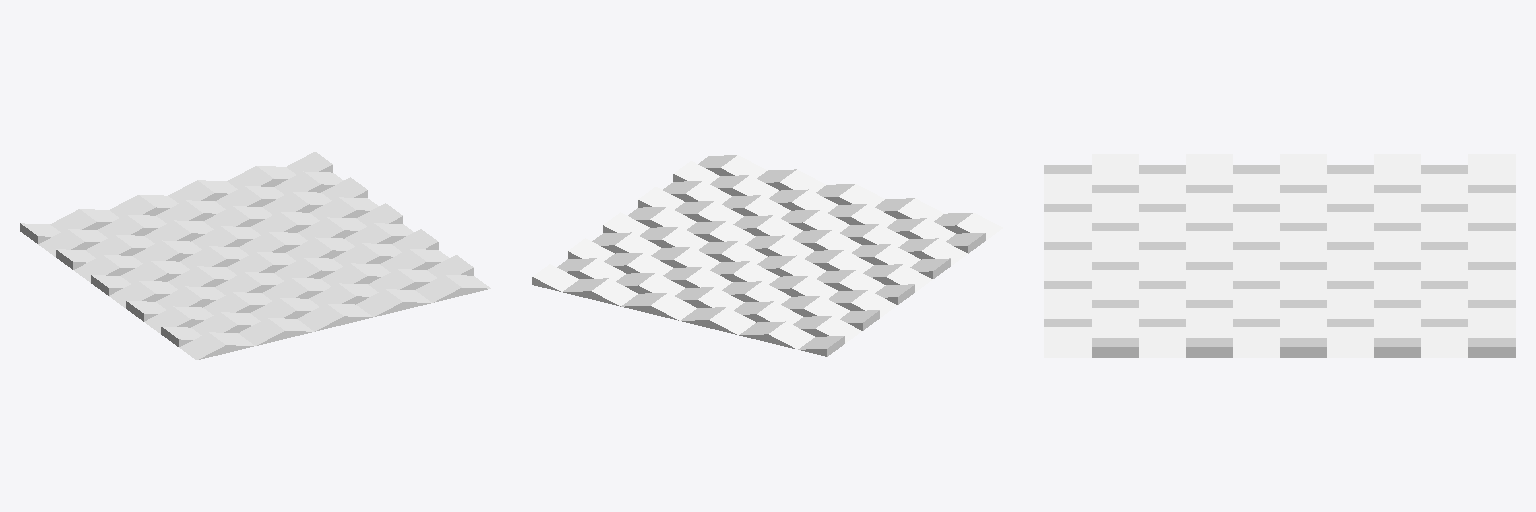
The robot description file, URDF, robot "ramp_mesh.urdf":
<?xml version="1.0" ?>
<robot name="ramp_mesh.urdf">
	<link name="ramp_mesh">
		<visual>
			<origin xyz="-3.0 -3.0 0" rpy="0 0 0" />
			<geometry>
				<mesh filename="./ramp-mesh.stl" scale="0.02 0.02 0.02" />
			</geometry>
			<material name="texture">
				<color rgba="1.0 1.0 1.0 1.0" />
			</material>
		</visual>
		<collision>
			<geometry>
				<mesh filename="./ramp-mesh.stl" scale="0.02 0.02 0.02" />
			</geometry>
		<origin xyz="-3.0 -3.0 0" rpy="0 0 0" /></collision>
		<inertial>
			<mass value="1000.0" />
			<inertia ixx="1.0" ixy="0.0" ixz="0.0" iyy="1.0" iyz="0.0" izz="1.0" />
		</inertial>
	</link>
</robot>

--- Facts derived from the render (not from the file) ---
3 views of the same robot in one strip: view 1: azimuth 30°, elevation 25°; view 2: azimuth 150°, elevation 25°; view 3: azimuth 270°, elevation 25° (orthographic).
Model ramp_mesh.urdf with 1 links and 0 joints (none), rooted at ramp_mesh, posed all joints at 0.
Links seen in each view (by area): view 1: ramp_mesh; view 2: ramp_mesh; view 3: ramp_mesh.
Link boxes in pixels (left/top/right/bottom): ramp_mesh: left=20, top=152, right=490, bottom=359; ramp_mesh: left=532, top=155, right=1002, bottom=356; ramp_mesh: left=1044, top=154, right=1515, bottom=357.
Bounding box of the posed robot: 9.66 × 10 × 0.2588 m (x, y, z).
1 mesh visuals loaded from 1 distinct referenced files (1 binary STL).